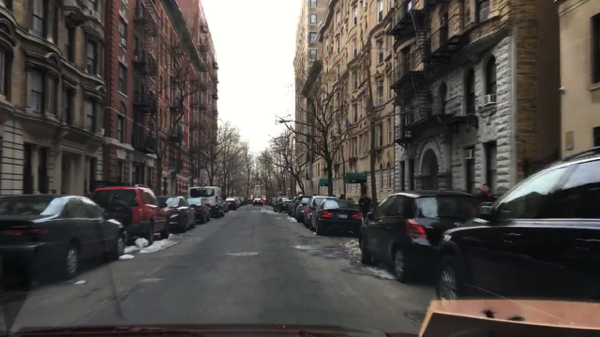car: (431, 143, 599, 310), (1, 193, 130, 285), (358, 190, 484, 284), (90, 184, 171, 242), (312, 198, 362, 236), (155, 194, 197, 233), (188, 186, 229, 219), (302, 195, 335, 229), (189, 197, 212, 222), (294, 196, 313, 222), (287, 194, 306, 216), (274, 197, 294, 213), (226, 196, 242, 210), (252, 197, 264, 207), (269, 196, 276, 205), (274, 197, 281, 206), (240, 198, 245, 205)
person: (358, 192, 371, 220), (477, 183, 494, 202), (348, 195, 355, 202), (338, 194, 344, 200)
